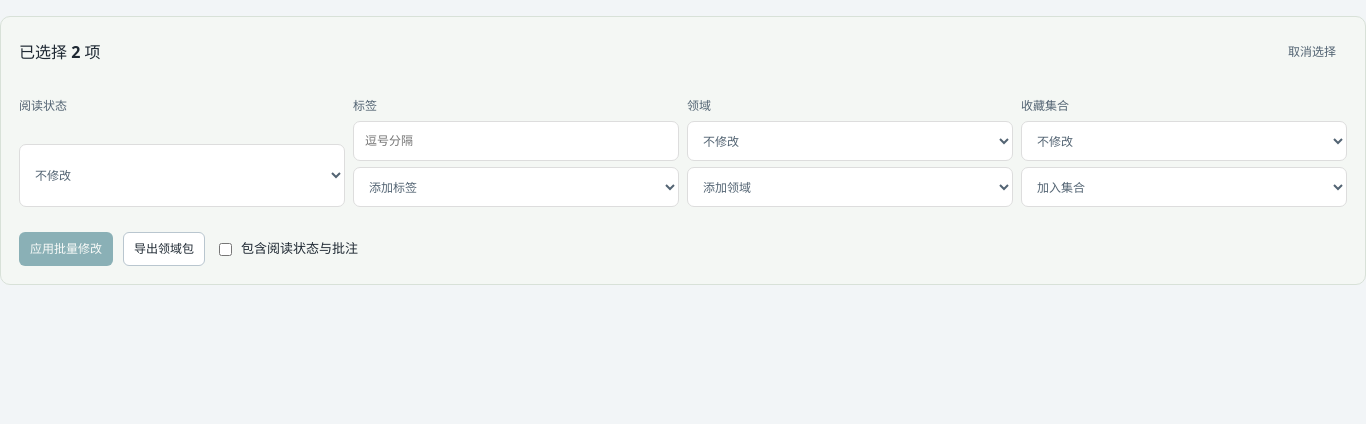
SelectionToolbar › keeps failed-ID retry scope after a retry request itself fails
Select "阅读中" in the dropdown labelled "阅读状态": {"x": 182, "y": 176} [19,144,345,207]
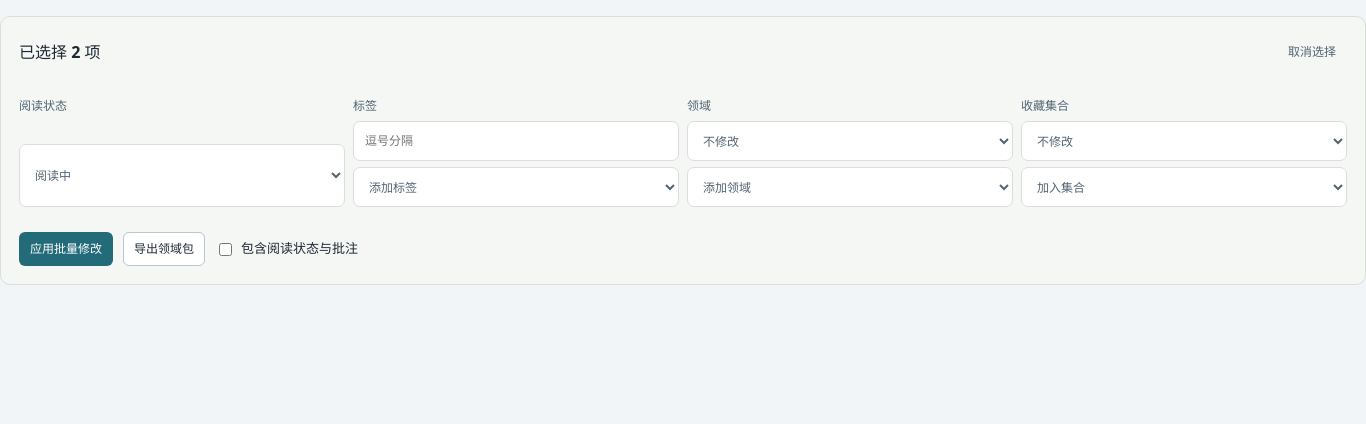
Click the button "应用批量修改": {"x": 66, "y": 249} [19,232,113,266]
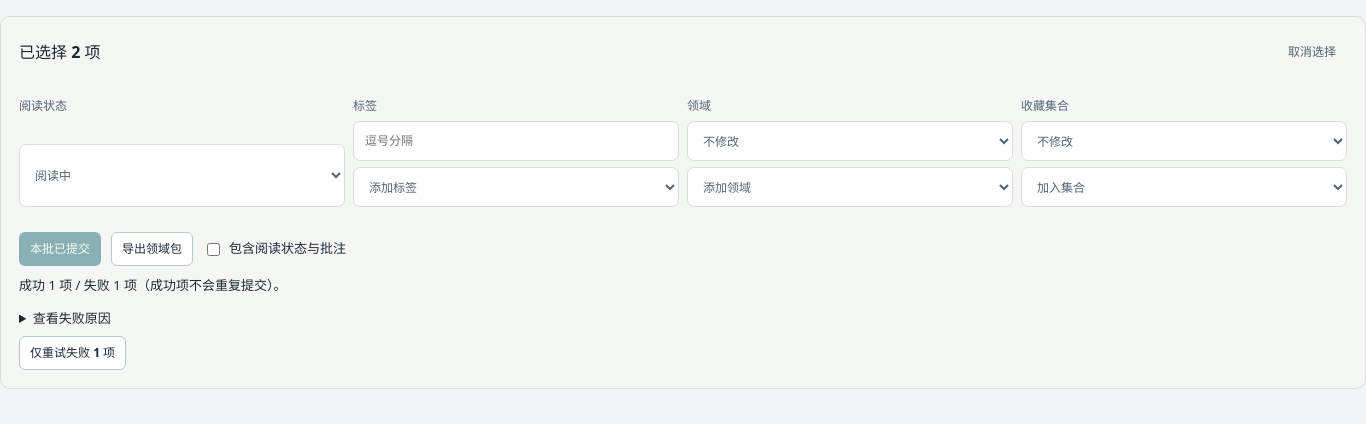
Click the button "仅重试失败 1 项": {"x": 73, "y": 353} [19,336,126,370]
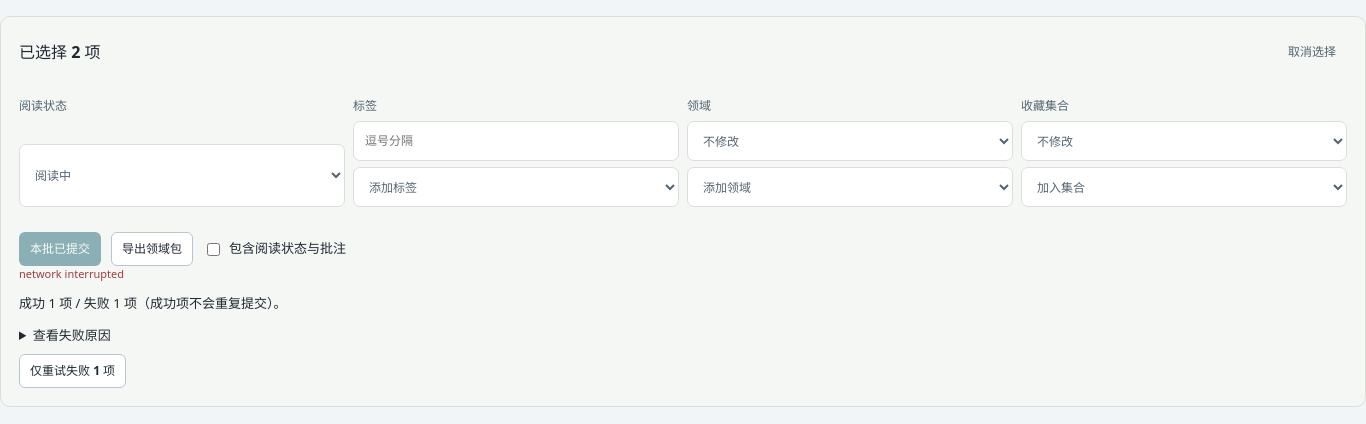
Check: the message "network interrupted" is shown, box [19,266,124,281]
Click the button "仅重试失败 1 项": {"x": 73, "y": 370} [19,354,126,388]
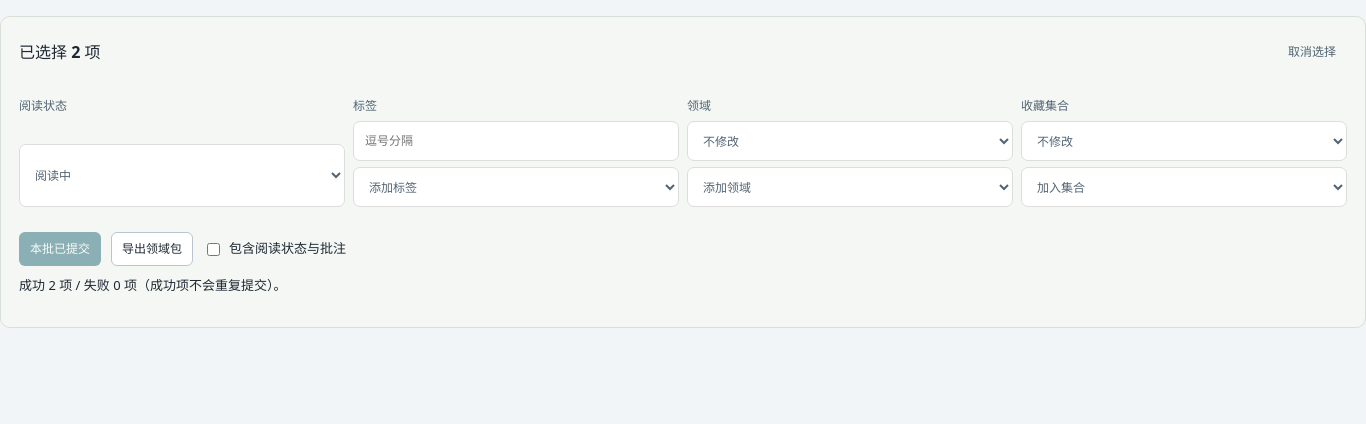
Check: the text "成功 2 项 / 失败 0 项（成功项不会重复提交）。" is shown, box [19,276,286,294]
